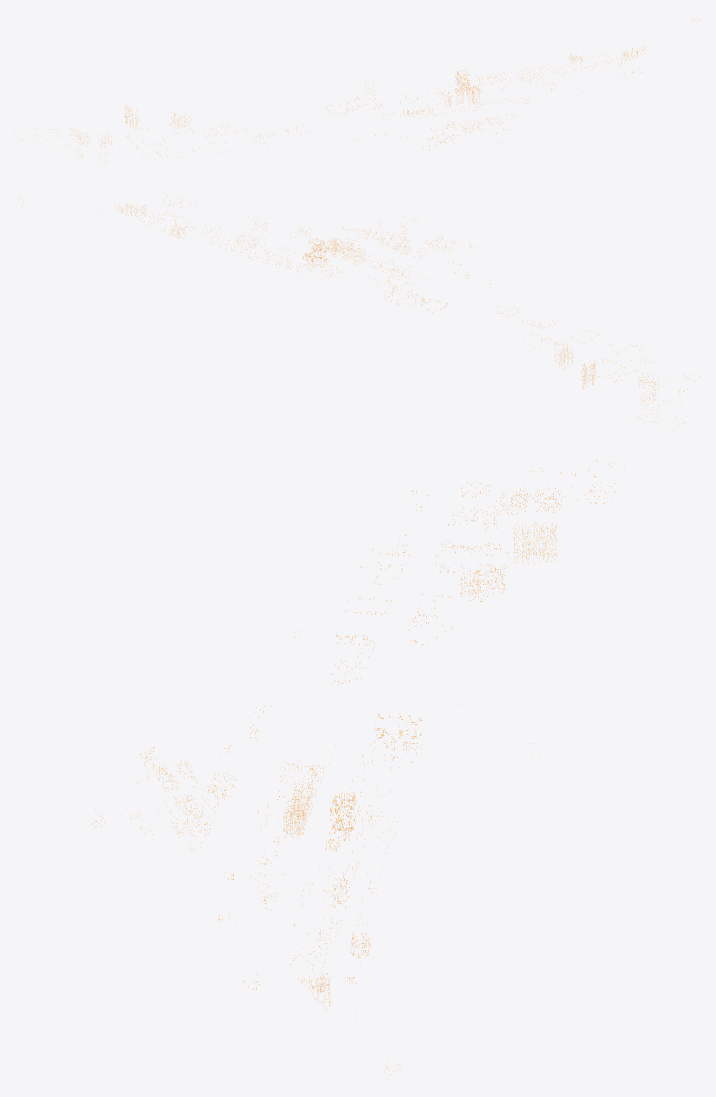
File: buildings-charles-river-lights-night.glb
3 renders of one model, top to bottom at view 1: azimuth 30°, elevation 25°; view 2: azimuth 150°, elevation 25°; view 3: azimuth 270°, elevation 25°, orthographic. The views are drawn at different scales.
Parts seen in each view (by area): view 1: buildings-charles-river-lights-night; view 2: buildings-charles-river-lights-night; view 3: buildings-charles-river-lights-night.
Boxes of the visible parts, x1,y1,x2,y2 form: buildings-charles-river-lights-night: [14, 14, 701, 166]; buildings-charles-river-lights-night: [14, 195, 700, 431]; buildings-charles-river-lights-night: [91, 460, 624, 1082].
Size of the model in its own units: 2700 by 87.93 by 988.
